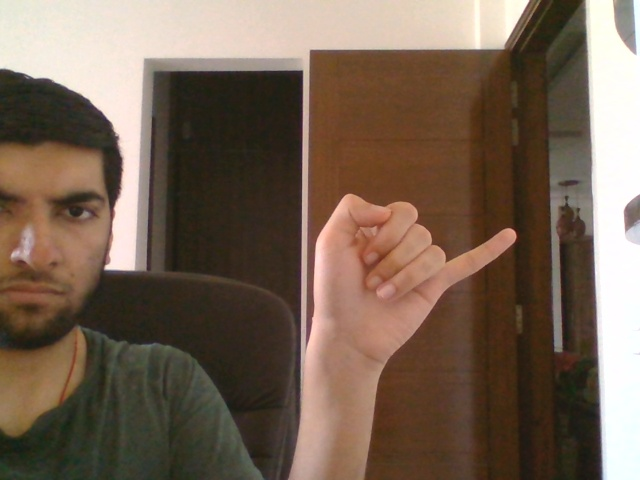LetterJ: (311, 193, 517, 366)
